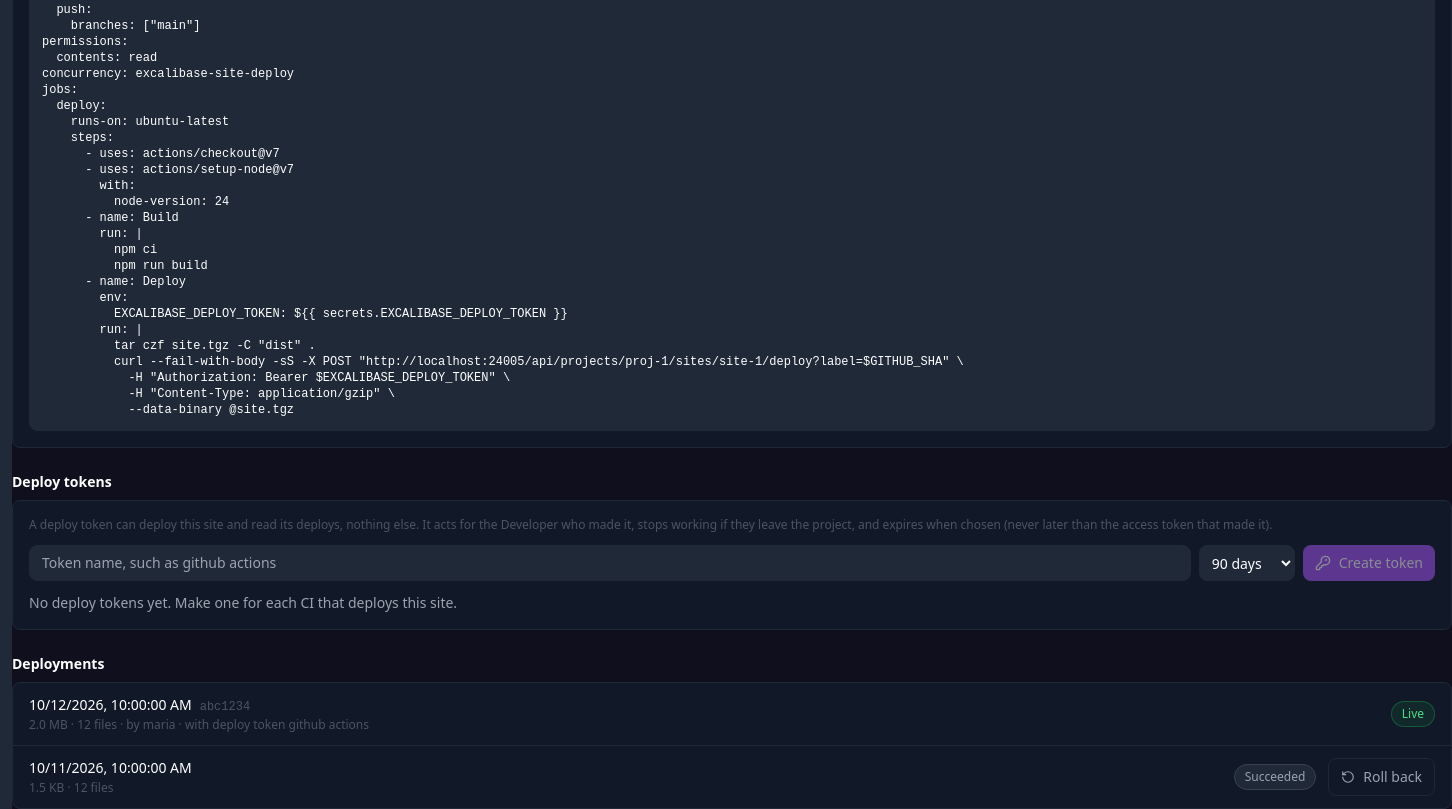
Test: SiteDetailPage › a cancelled rollback changes nothing
(page scrolled)
Click the button with test id "site-rollback-dep-1".
click(1382, 777)  # box [1328,758,1435,796]
(page scrolled)
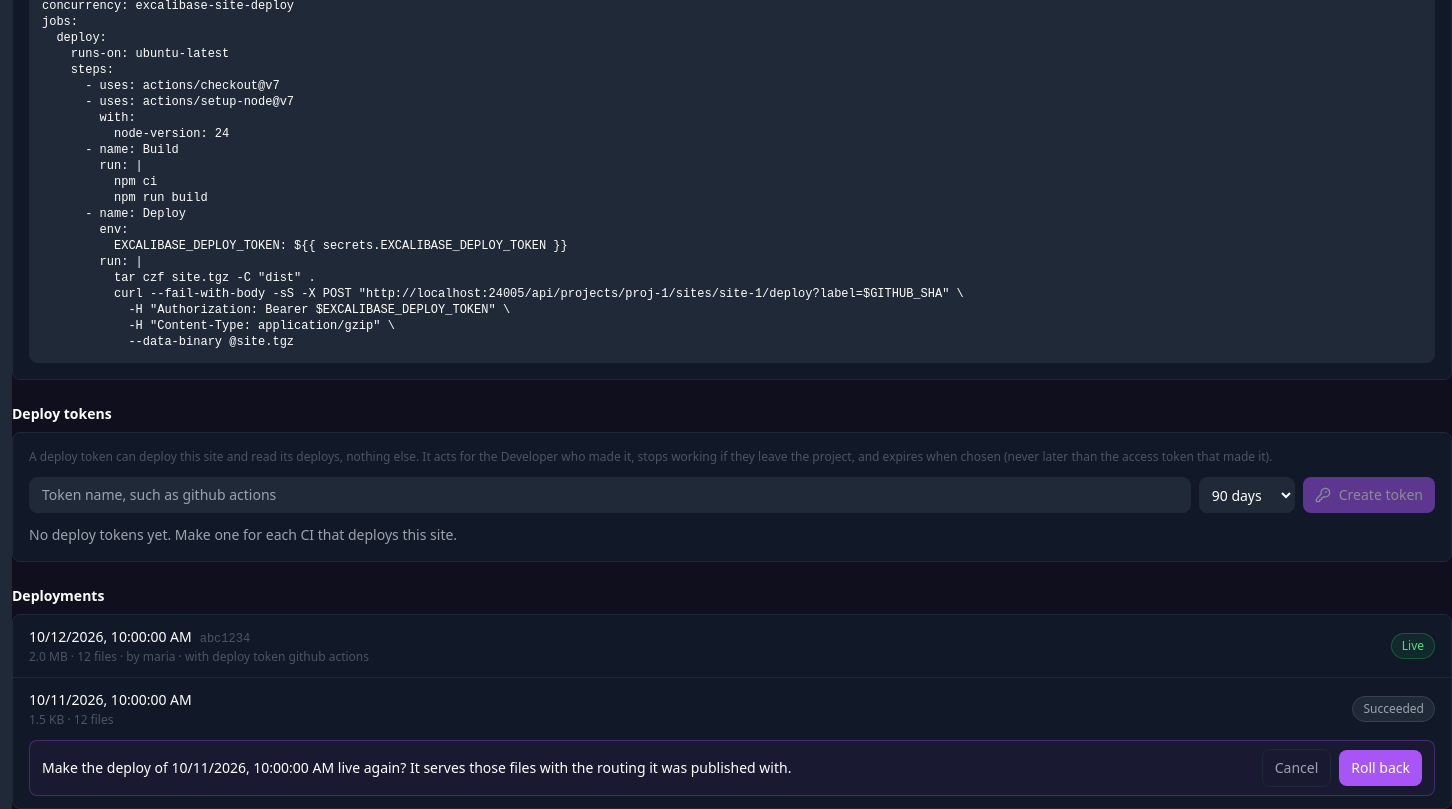
Click the button with test id "site-rollback-cancel-dep-1".
click(1296, 768)  # box [1262,749,1331,787]
(page scrolled)
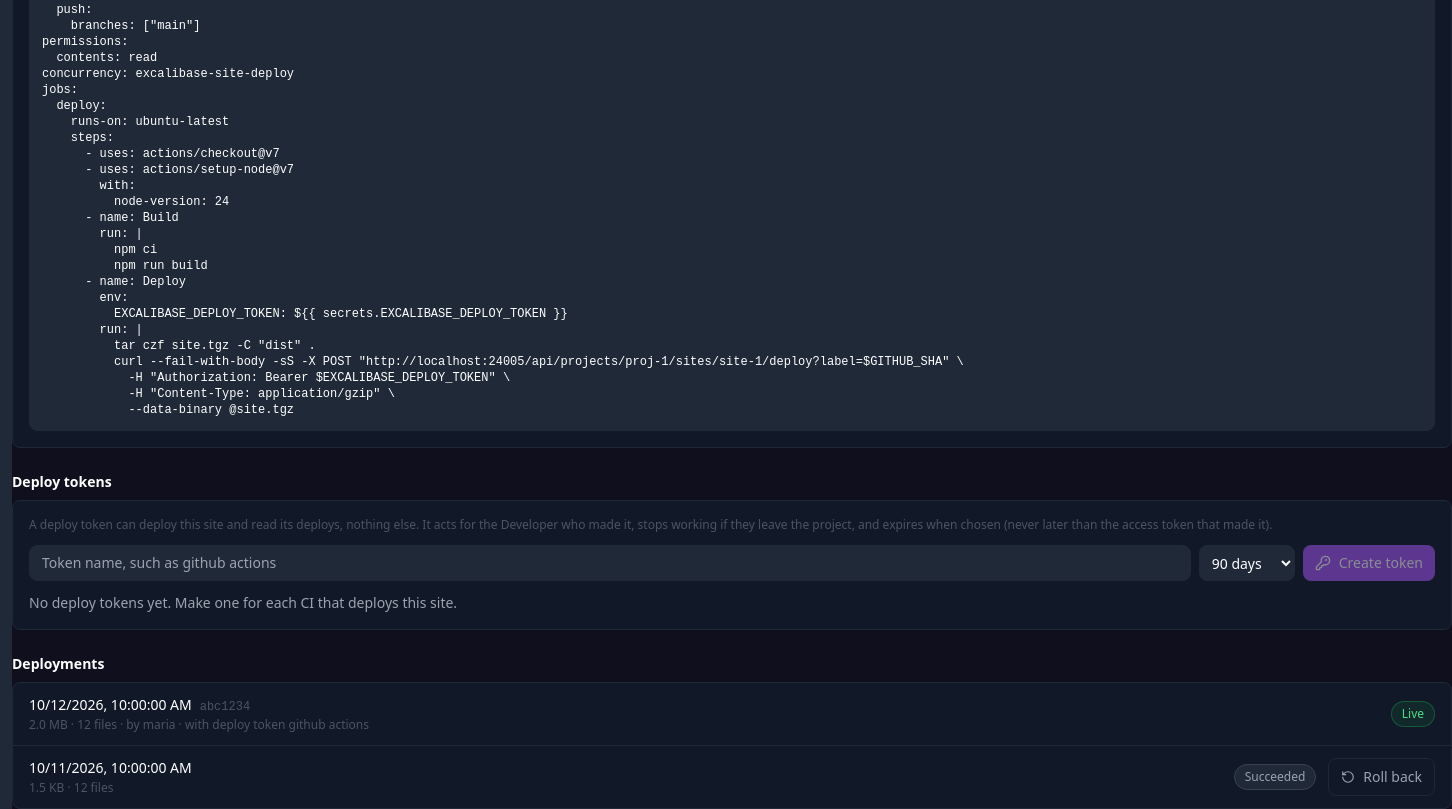
expect the button with test id "site-rollback-confirm-dep-1" is gone: met
